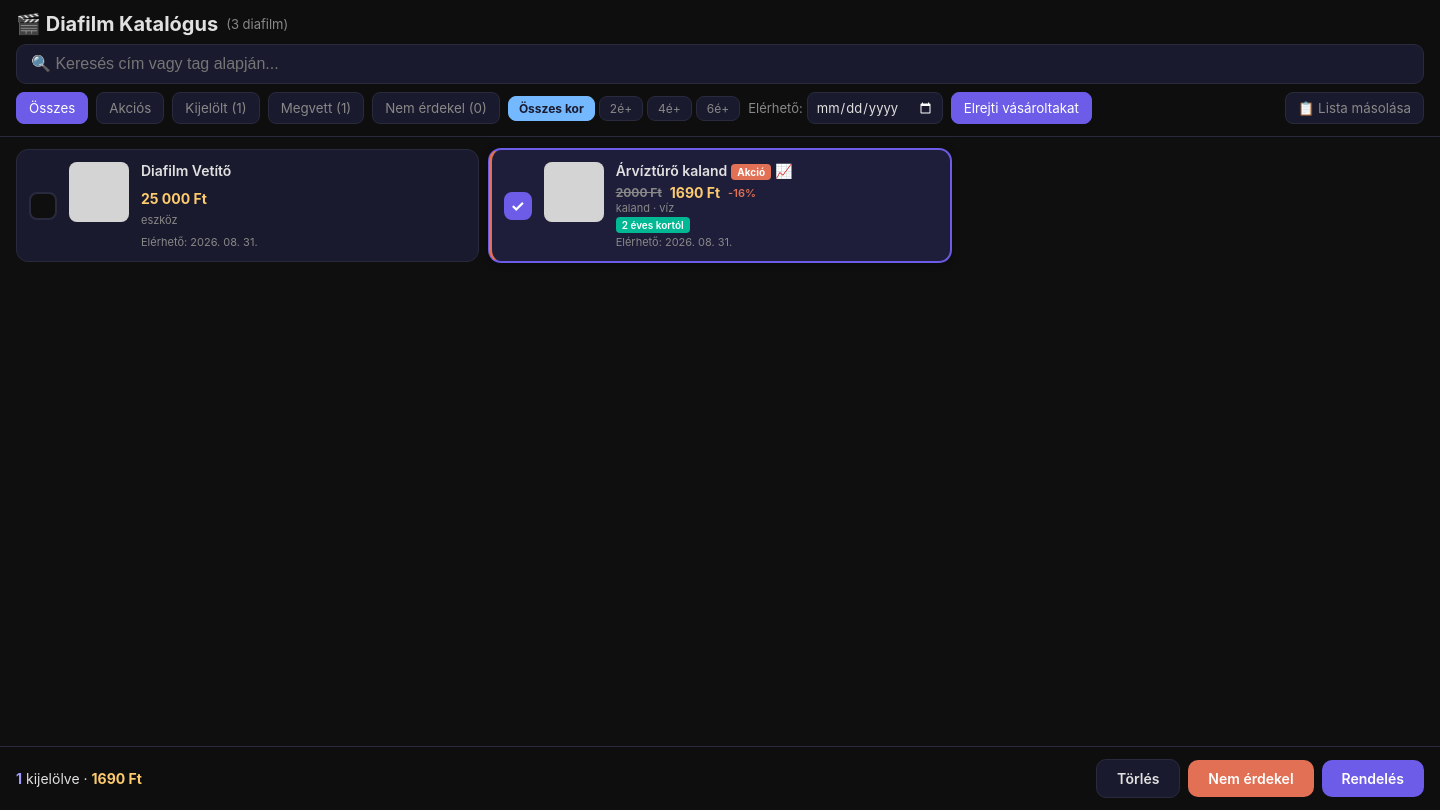
Scenario: App Integration › clicking price history icon opens modal
The width and height of the screenshot is (1440, 810).
Click the icon with test id "history-icon".
click(784, 170)  # box [775,162,792,179]
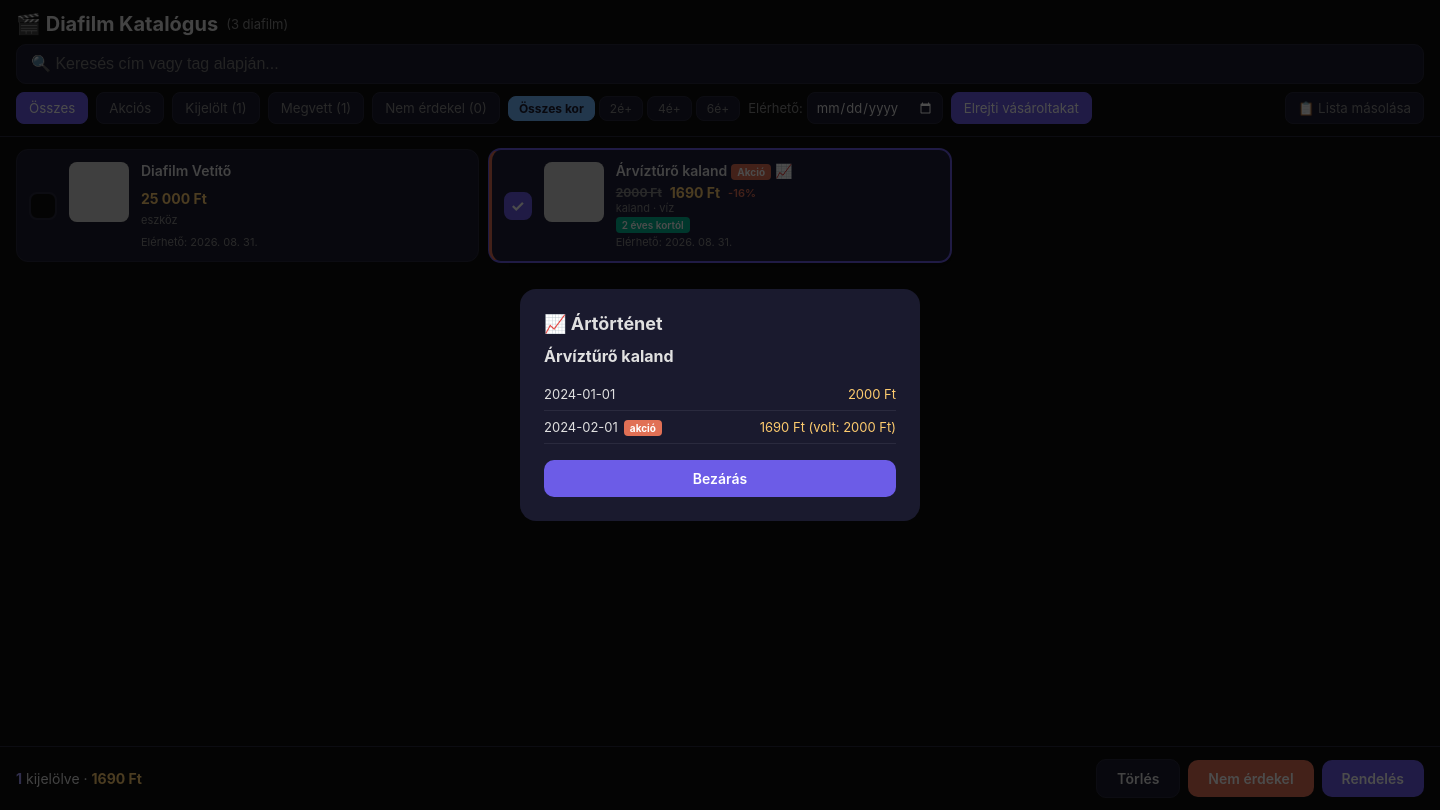
Result: the heading "📈 Ártörténet" is shown at [544,313,663,334]
